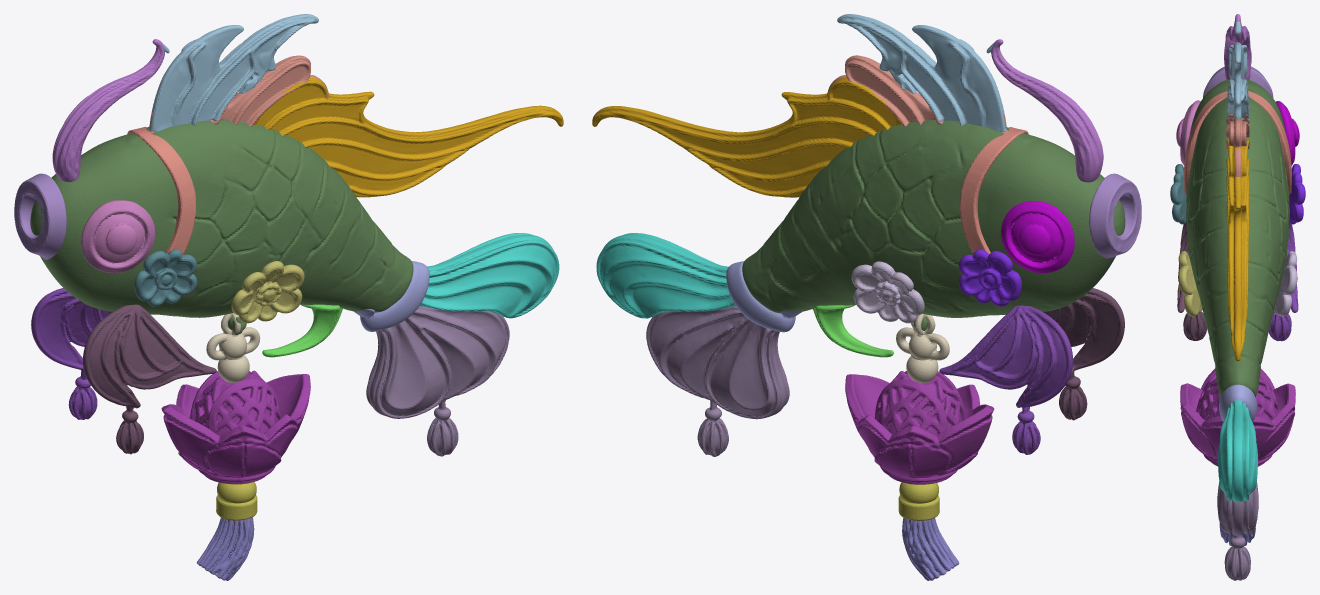
Rendered from generated_parts_assembled_chunked20step.glb.
3 renders of one model, left to right at view 1: azimuth 30°, elevation 25°; view 2: azimuth 150°, elevation 25°; view 3: azimuth 270°, elevation 25°, orthographic. The views are drawn at different scales.
Parts seen in each view (by area): view 1: tmp76wsofrq.ply, tmpntic15qo.ply, tmpwqi8zpgl.ply, tmp5r8k8fu7.ply, tmpj40qgbg4.ply, tmpe2vauv3p.ply, tmp1natlmcv.ply, tmpeiuen32l.ply, tmpp5c161gu.ply, tmptt9cpb_r.ply, tmpnv0uexzy.ply, tmpwreyoj3n.ply (+8 smaller); view 2: tmp76wsofrq.ply, tmpntic15qo.ply, tmpwqi8zpgl.ply, tmp5r8k8fu7.ply, tmpj40qgbg4.ply, tmpeiuen32l.ply, tmp1natlmcv.ply, tmpe2vauv3p.ply, tmpg_mc1ol8.ply, tmptt9cpb_r.ply, tmpnv0uexzy.ply, tmpjl0uyf3p.ply (+8 smaller); view 3: tmp76wsofrq.ply, tmp5r8k8fu7.ply, tmpntic15qo.ply, tmp1natlmcv.ply, tmpwqi8zpgl.ply, tmp1i8409tj.ply, tmpj40qgbg4.ply, tmpe2vauv3p.ply, tmpwreyoj3n.ply, tmpjl0uyf3p.ply, tmp2_yqr1t6.ply, tmpeiuen32l.ply (+8 smaller).
Boxes of the visible parts, <box> form: tmp76wsofrq.ply: <box>30,120,413,335</box>; tmpntic15qo.ply: <box>254,76,563,197</box>; tmpwqi8zpgl.ply: <box>366,306,509,456</box>; tmp5r8k8fu7.ply: <box>161,370,310,484</box>; tmpj40qgbg4.ply: <box>148,14,318,131</box>; tmpe2vauv3p.ply: <box>83,304,216,454</box>; tmp1natlmcv.ply: <box>420,233,559,318</box>; tmpeiuen32l.ply: <box>31,288,112,419</box>; tmpp5c161gu.ply: <box>81,200,155,272</box>; tmptt9cpb_r.ply: <box>52,39,164,182</box>; tmpnv0uexzy.ply: <box>14,173,66,259</box>; tmpwreyoj3n.ply: <box>231,261,304,323</box>; tmp76wsofrq.ply: <box>742,120,1125,330</box>; tmpntic15qo.ply: <box>592,76,901,197</box>; tmpwqi8zpgl.ply: <box>646,306,789,456</box>; tmp5r8k8fu7.ply: <box>845,371,994,484</box>; tmpj40qgbg4.ply: <box>837,14,1006,132</box>; tmpeiuen32l.ply: <box>939,305,1072,454</box>; tmp1natlmcv.ply: <box>596,233,735,318</box>; tmpe2vauv3p.ply: <box>1043,288,1124,420</box>; tmpg_mc1ol8.ply: <box>1001,201,1074,273</box>; tmptt9cpb_r.ply: <box>991,39,1103,182</box>; tmpnv0uexzy.ply: <box>1089,173,1141,259</box>; tmpjl0uyf3p.ply: <box>851,261,924,323</box>; tmp76wsofrq.ply: <box>1186,80,1289,397</box>; tmp5r8k8fu7.ply: <box>1180,368,1295,466</box>; tmpntic15qo.ply: <box>1226,139,1249,361</box>; tmp1natlmcv.ply: <box>1218,400,1257,502</box>; tmpwqi8zpgl.ply: <box>1217,482,1258,580</box>; tmp1i8409tj.ply: <box>1183,91,1291,194</box>; tmpj40qgbg4.ply: <box>1226,21,1249,120</box>; tmpe2vauv3p.ply: <box>1177,222,1206,340</box>; tmpwreyoj3n.ply: <box>1178,251,1202,316</box>; tmpjl0uyf3p.ply: <box>1274,251,1297,316</box>; tmp2_yqr1t6.ply: <box>1226,114,1249,176</box>; tmpeiuen32l.ply: <box>1268,223,1298,341</box>.
Size of the model in its own units: 1.05 by 1.04 by 0.254.
